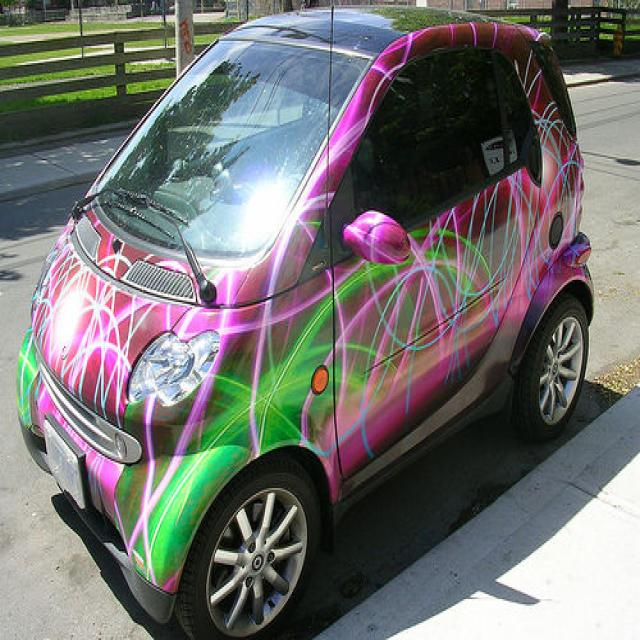Car: (15, 9, 599, 640)
